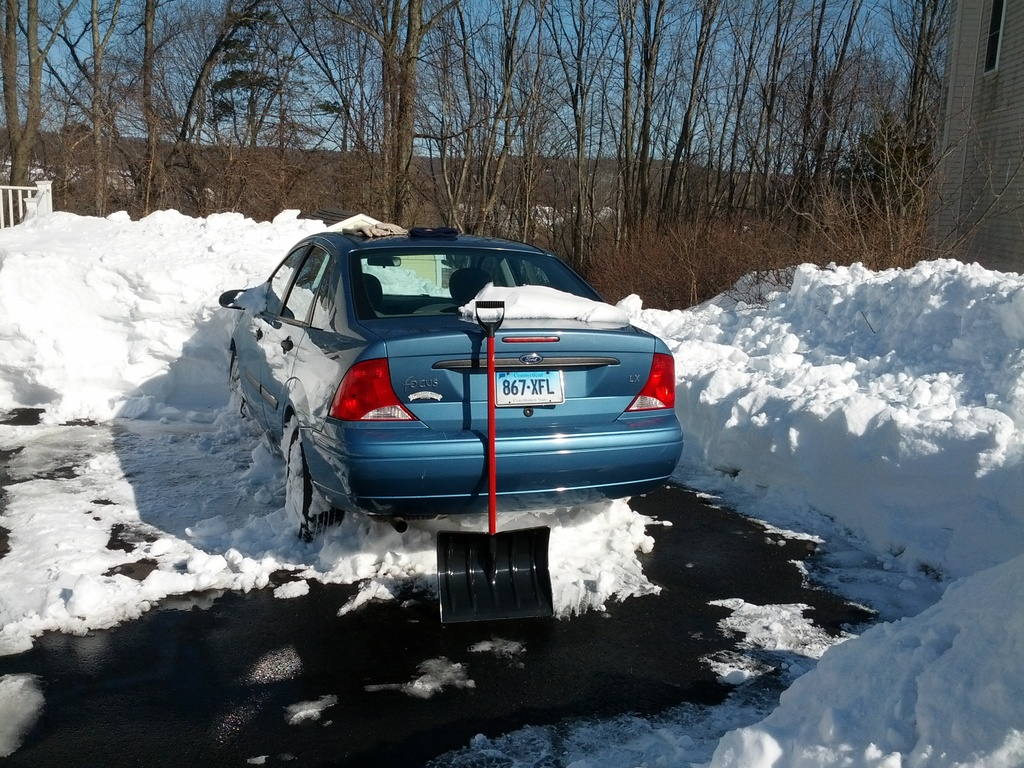mobil: (231, 222, 683, 497)
